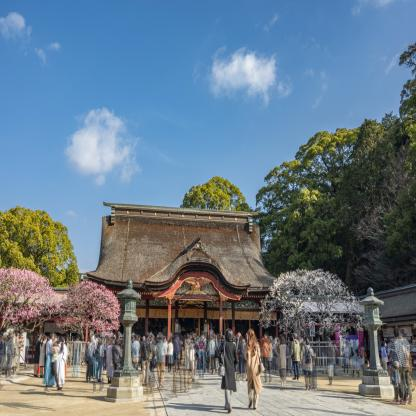Ume: (256, 268, 367, 348), (0, 265, 58, 334), (56, 280, 121, 337)
